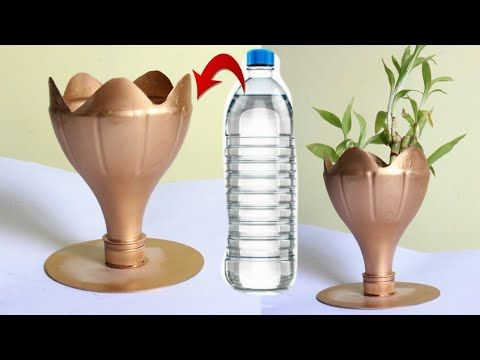plastic_bottle: (208, 43, 334, 309)
